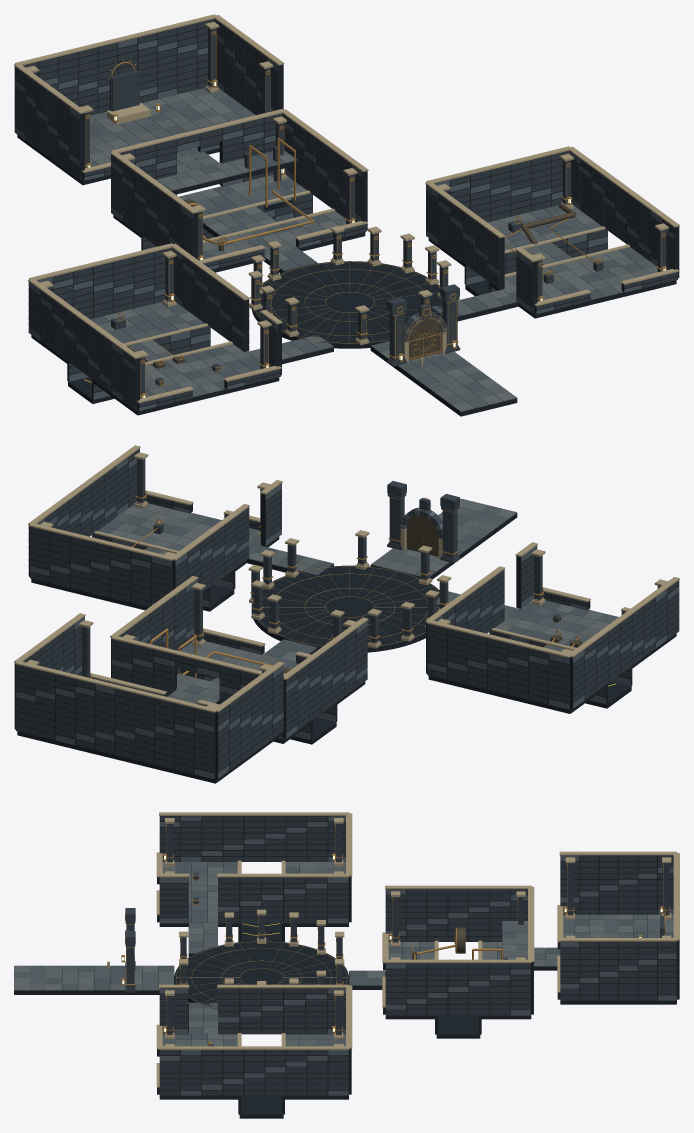
The model's file is fire-temple-map-v01.glb.
3 renders of one model, top to bottom at view 1: azimuth 30°, elevation 25°; view 2: azimuth 150°, elevation 25°; view 3: azimuth 270°, elevation 25°, orthographic. The views are drawn at different scales.
Parts seen in each view (by area): view 1: Batch Basalt • charcoal, Batch Recesses and grout, Batch Ash stone • warm trim, Batch Basalt • blue grey bevels, Batch Floor stone 3, Batch Floor stone 0, Batch Floor stone 1, Batch Floor stone 2, Batch Bronze • forged warm, Batch Bronze • aged recess; view 2: Batch Basalt • charcoal, Batch Recesses and grout, Batch Ash stone • warm trim, Batch Basalt • blue grey bevels, Batch Floor stone 1, Batch Floor stone 2, Batch Floor stone 3, Batch Floor stone 0, Batch Bronze • forged warm, Batch Bronze • aged recess; view 3: Batch Basalt • charcoal, Batch Recesses and grout, Batch Ash stone • warm trim, Batch Basalt • blue grey bevels, Batch Floor stone 0, Batch Floor stone 1, Batch Floor stone 3, Batch Floor stone 2, Batch Bronze • forged warm.
Boxes of the visible parts, <box> form: Batch Basalt • charcoal: <box>14,19,677,410</box>; Batch Recesses and grout: <box>14,19,679,416</box>; Batch Ash stone • warm trim: <box>14,14,679,403</box>; Batch Basalt • blue grey bevels: <box>14,34,674,410</box>; Batch Floor stone 3: <box>90,96,647,397</box>; Batch Floor stone 0: <box>90,87,656,408</box>; Batch Floor stone 1: <box>90,95,650,398</box>; Batch Floor stone 2: <box>82,91,657,411</box>; Batch Bronze • forged warm: <box>36,30,667,398</box>; Batch Bronze • aged recess: <box>153,199,575,368</box>; Batch Basalt • charcoal: <box>16,449,679,774</box>; Batch Recesses and grout: <box>14,451,679,783</box>; Batch Ash stone • warm trim: <box>14,445,679,712</box>; Batch Basalt • blue grey bevels: <box>16,457,679,778</box>; Batch Floor stone 1: <box>116,503,600,778</box>; Batch Floor stone 2: <box>110,498,609,739</box>; Batch Floor stone 3: <box>97,515,591,704</box>; Batch Floor stone 0: <box>113,505,618,709</box>; Batch Bronze • forged warm: <box>90,491,580,678</box>; Batch Bronze • aged recess: <box>283,515,581,673</box>; Batch Basalt • charcoal: <box>125,816,679,1095</box>; Batch Recesses and grout: <box>14,816,679,1118</box>; Batch Ash stone • warm trim: <box>107,812,679,1087</box>; Batch Basalt • blue grey bevels: <box>159,816,679,1095</box>; Batch Floor stone 0: <box>14,862,659,1046</box>; Batch Floor stone 1: <box>30,862,673,1046</box>; Batch Floor stone 3: <box>46,862,673,1039</box>; Batch Floor stone 2: <box>14,862,673,1046</box>; Batch Bronze • forged warm: <box>121,824,670,1046</box>.
Size of the model in its own units: 76.85 by 16.02 by 91.42.
